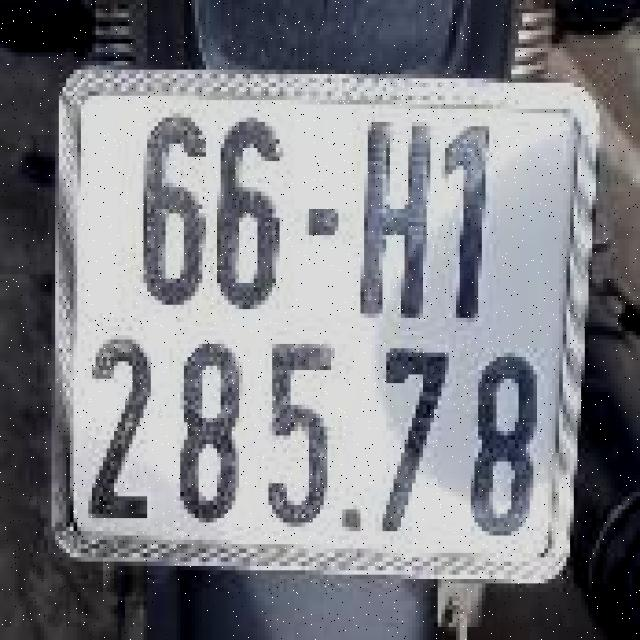1: (443, 109, 495, 322)
2: (79, 326, 160, 527)
5: (261, 318, 346, 535)
6: (128, 94, 210, 311), (212, 92, 292, 309)
7: (364, 339, 449, 540)
8: (169, 322, 243, 540), (465, 344, 539, 553)
H: (342, 100, 434, 327)
